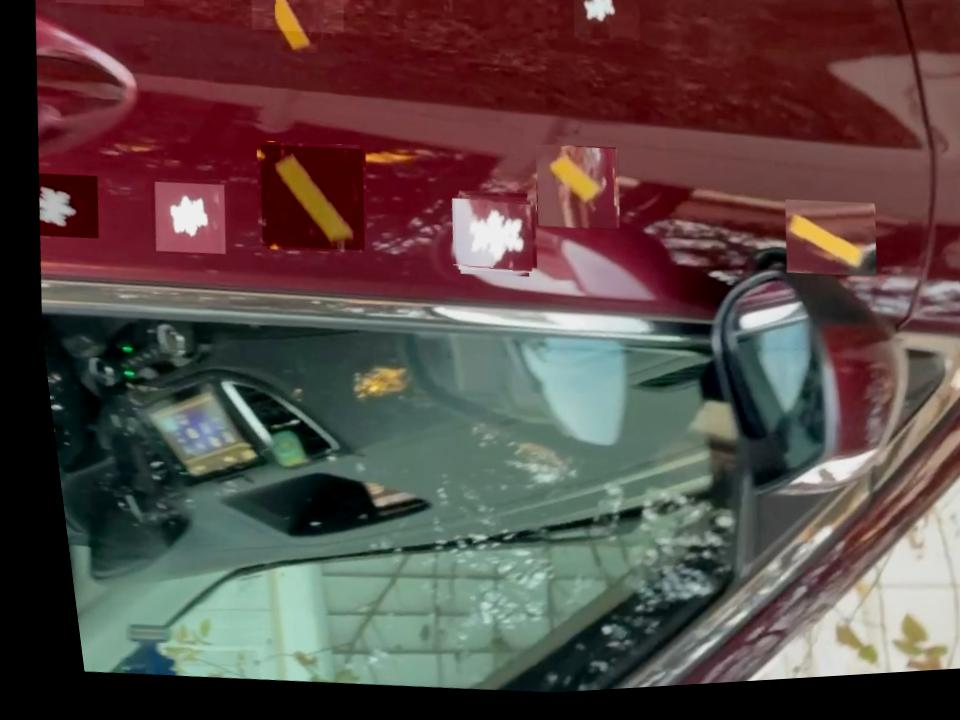dent: (442, 196, 534, 283), (143, 180, 226, 260), (28, 171, 99, 242), (567, 0, 643, 52), (55, 0, 148, 12), (423, 0, 473, 4)
scratch: (246, 142, 368, 258), (772, 205, 876, 291), (524, 148, 621, 240), (246, 0, 349, 42)
